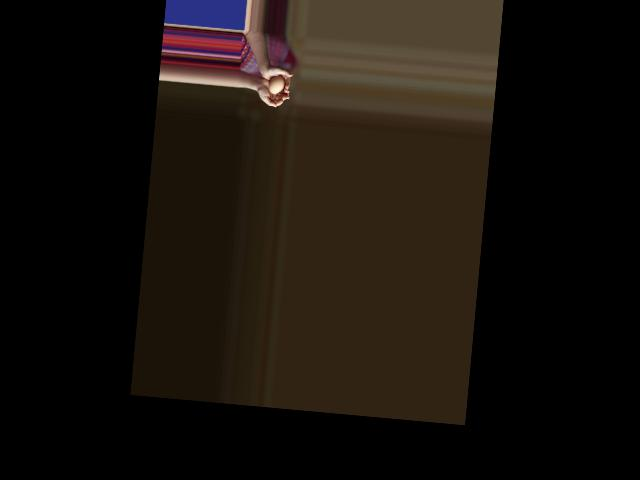egg: (269, 74, 285, 94)
